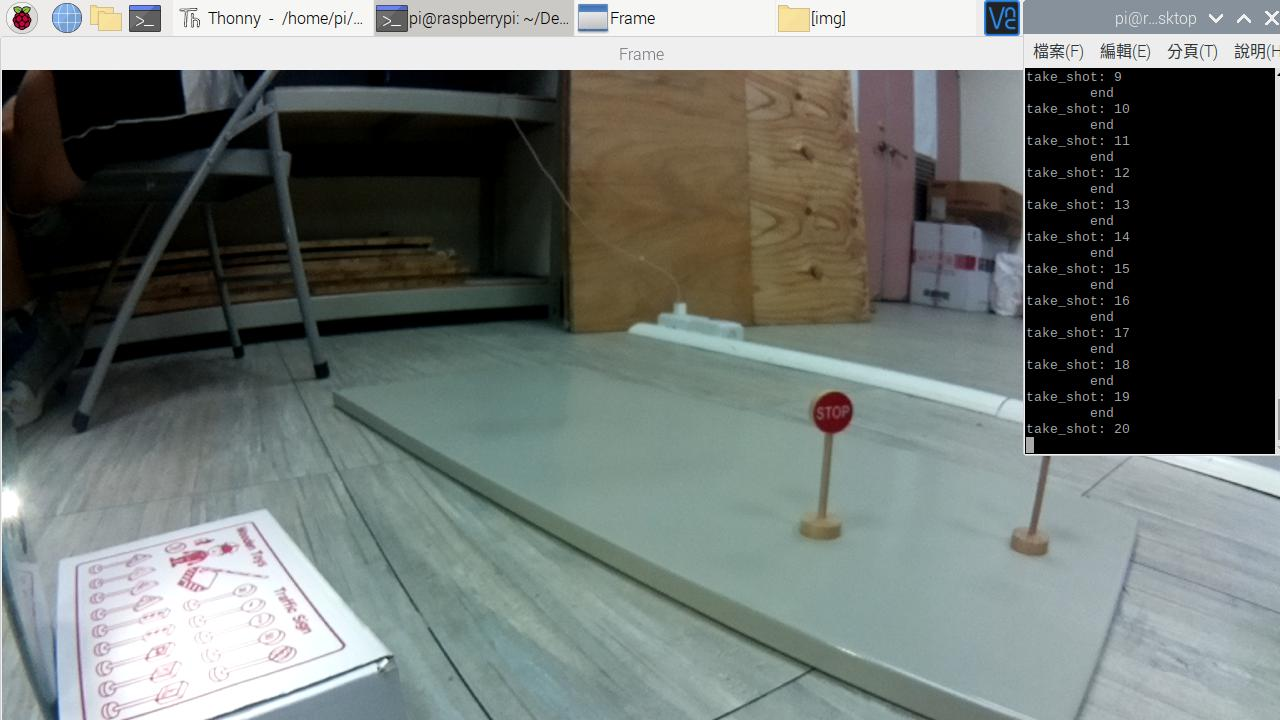Stop: (805, 388, 855, 434)
